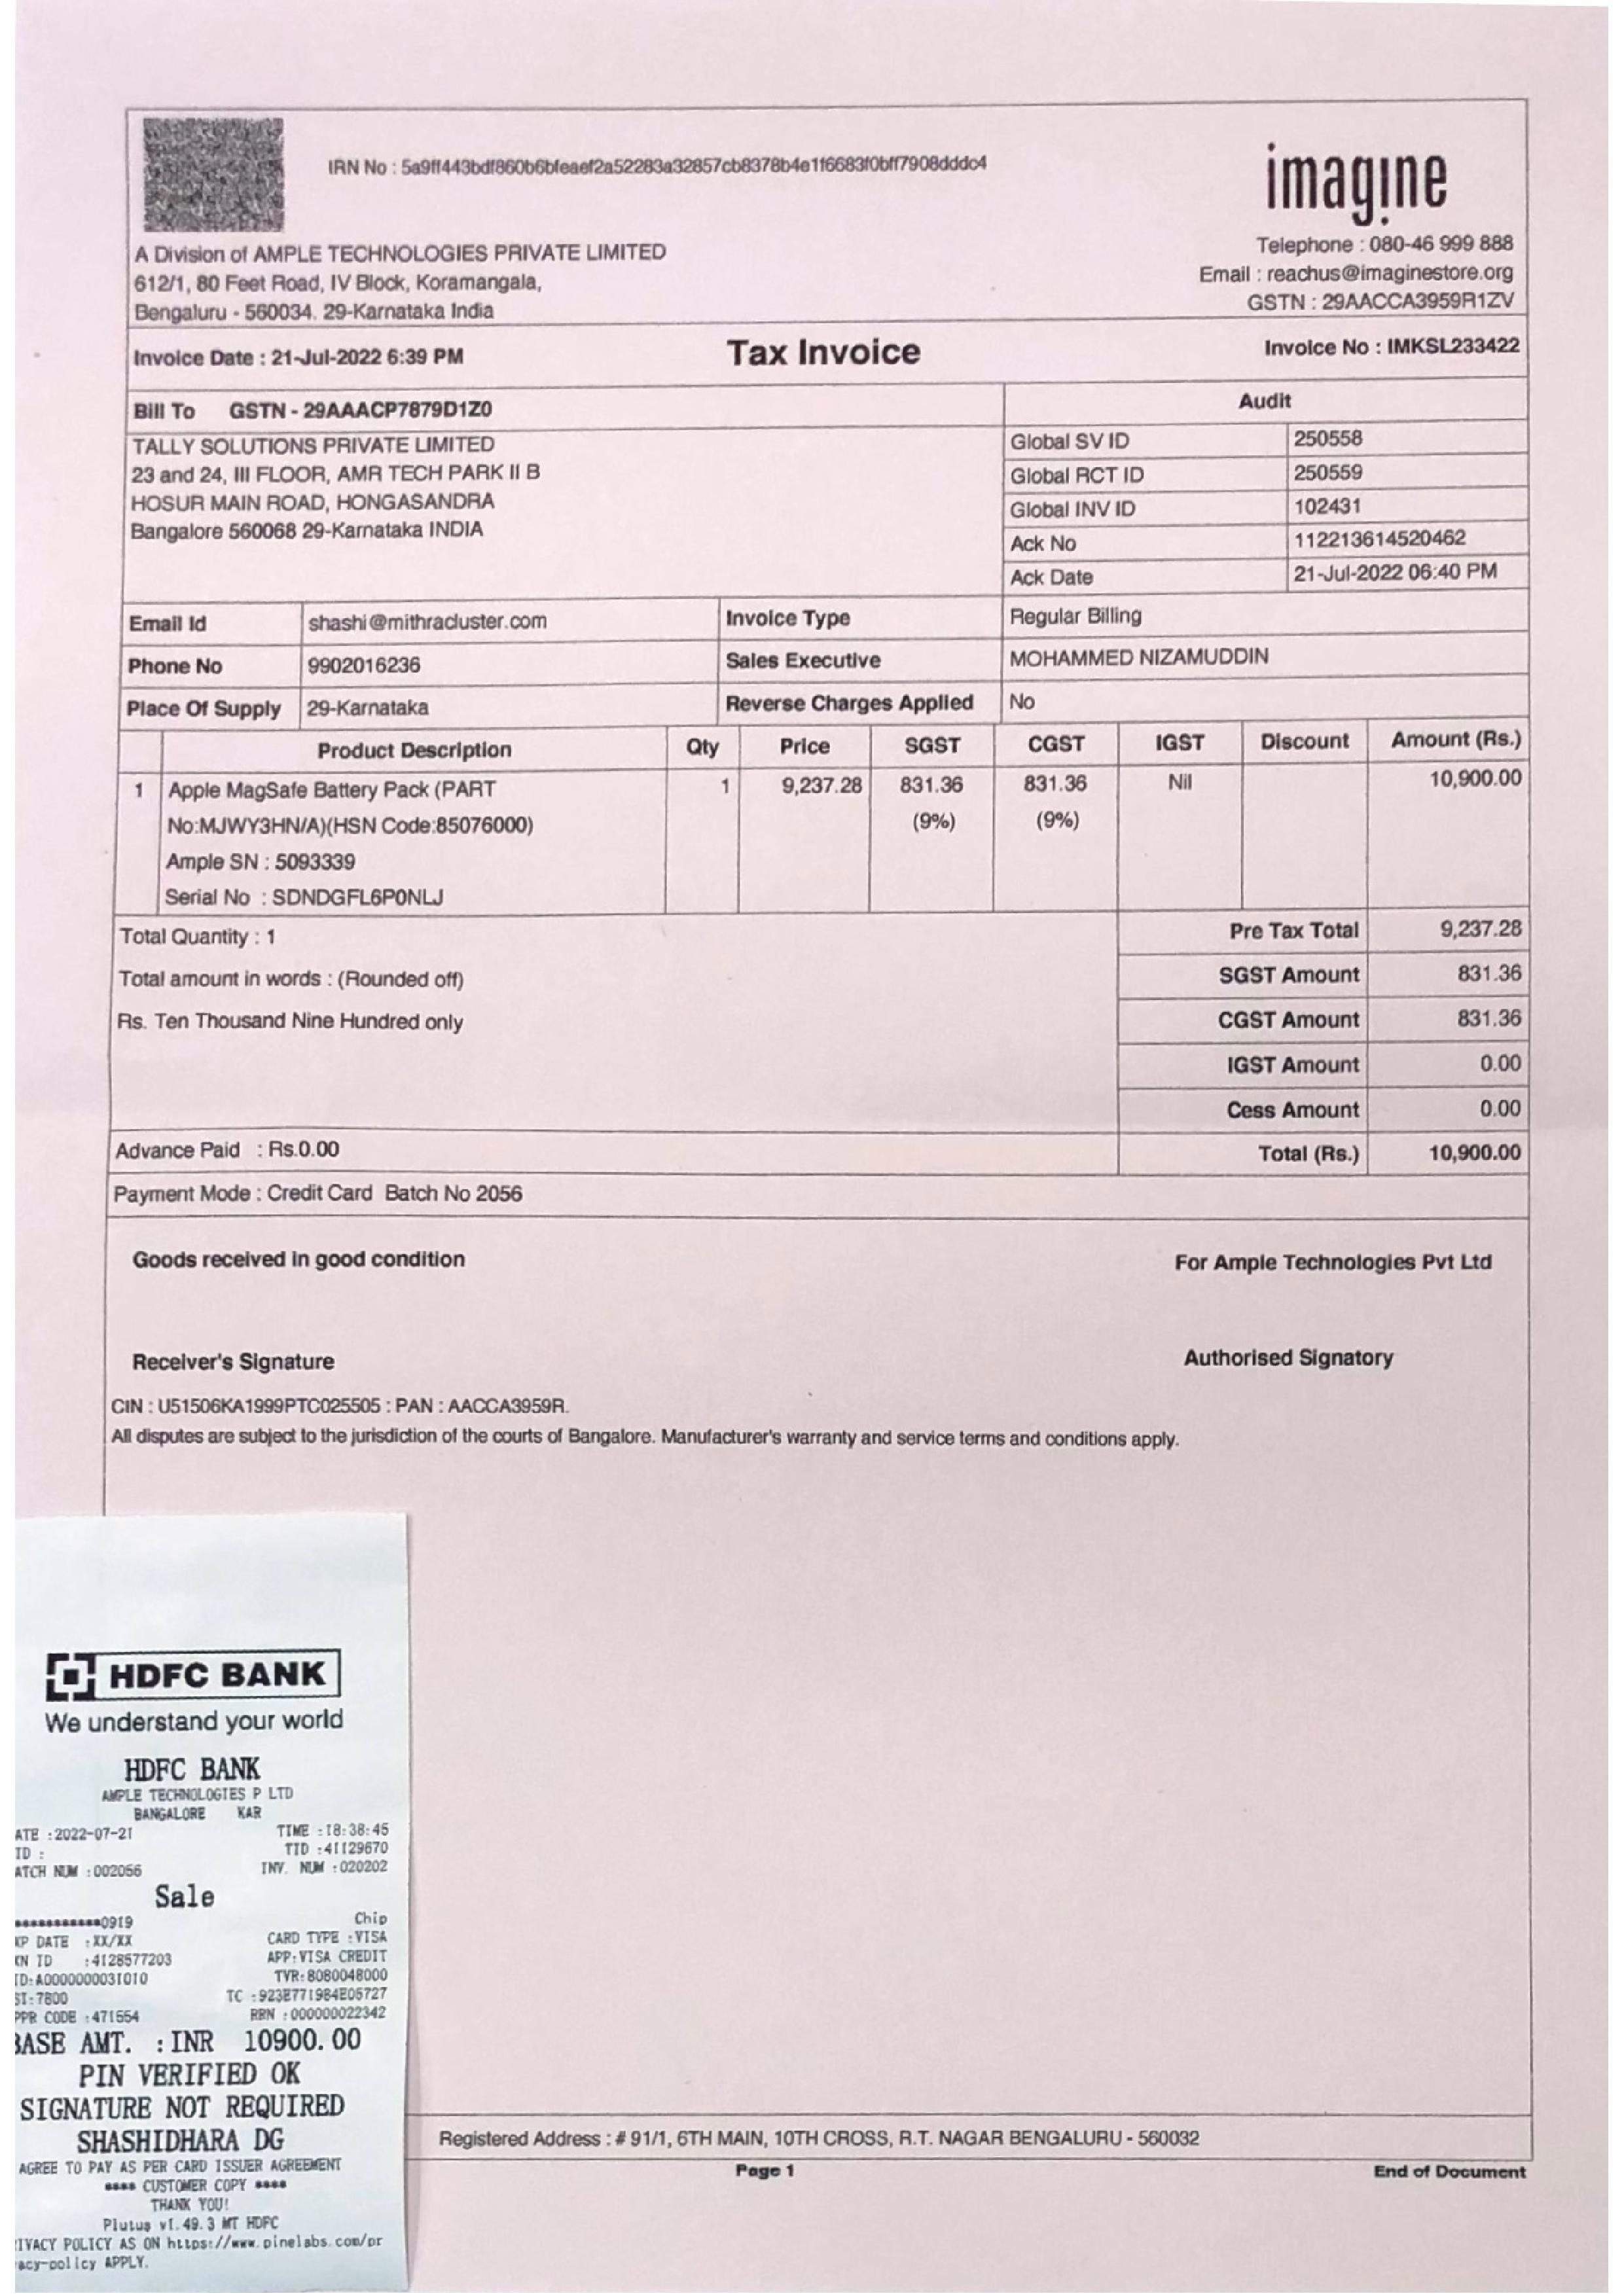InvoiceDate: (265, 344, 475, 371)
InvoiceNumber: (1396, 339, 1524, 364)
TotalAmount: (1429, 1142, 1533, 1172)
